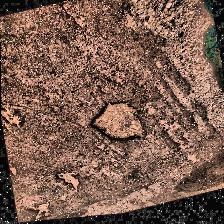pothole: (80, 94, 152, 156)
